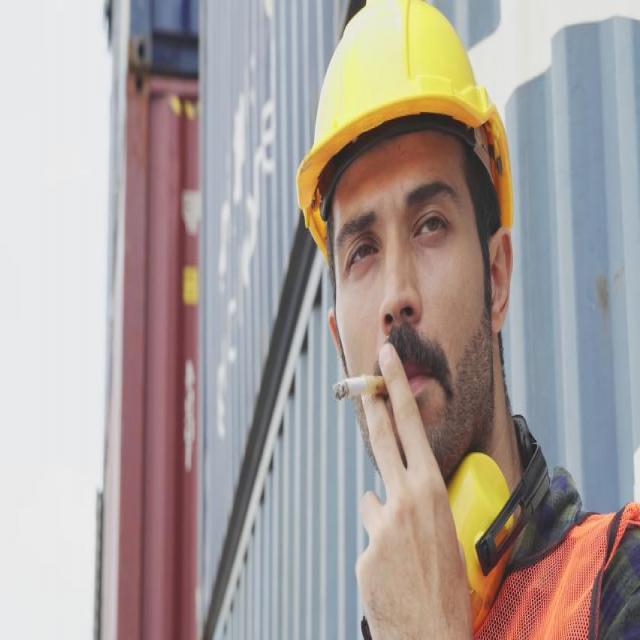cigarette: (326, 337, 409, 448)
